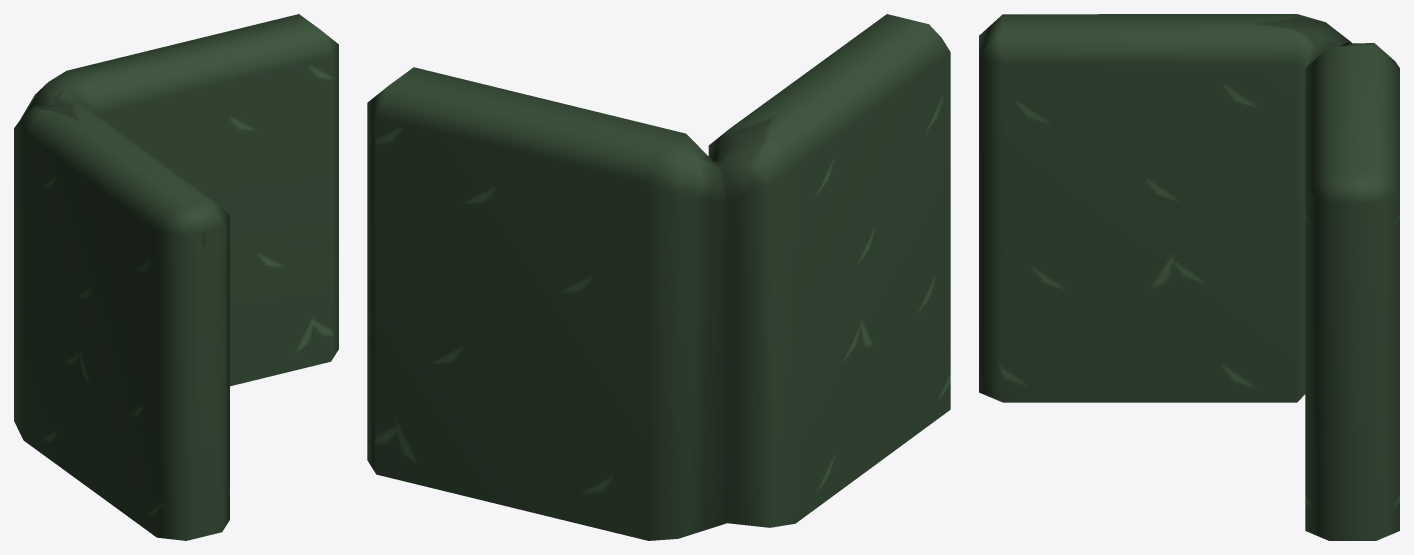
The model's file is mod_med_maze_wall_c_corn_01.fbx.
3 views of the same model, side by side, from view 1: azimuth 30°, elevation 25°; view 2: azimuth 150°, elevation 25°; view 3: azimuth 270°, elevation 25° (orthographic). The views are drawn at different scales.
Visible parts, largest first — view 1: mod_med_maze_wall_c_corn_01; view 2: mod_med_maze_wall_c_corn_01; view 3: mod_med_maze_wall_c_corn_01.
Boxes of the visible parts, bbox=[...] form: mod_med_maze_wall_c_corn_01: bbox=[14, 14, 338, 540]; mod_med_maze_wall_c_corn_01: bbox=[367, 14, 950, 540]; mod_med_maze_wall_c_corn_01: bbox=[979, 14, 1399, 540].
Bounding box in the file's own units: 12.41 × 11.66 × 12.39.
